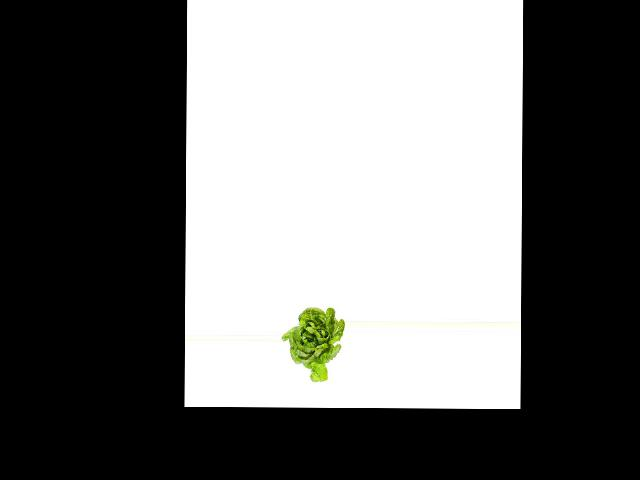lettuce: (281, 306, 342, 384)
